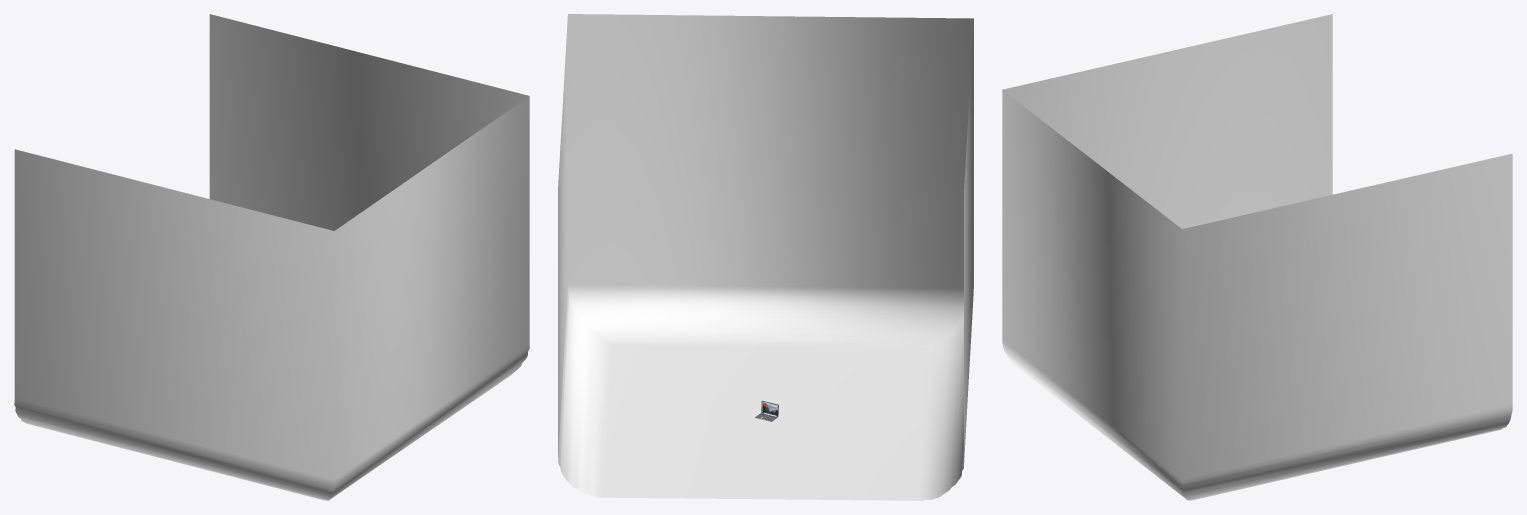
File: laptop.glb
3 renders of one model, left to right at view 1: azimuth 30°, elevation 25°; view 2: azimuth 150°, elevation 25°; view 3: azimuth 270°, elevation 25°, orthographic. The views are drawn at different scales.
Visible parts, largest first — view 1: macBook_TopPart; view 2: macBook_TopPart; view 3: macBook_TopPart.
Boxes of the visible parts, bbox=[...] form: macBook_TopPart: bbox=[14, 14, 529, 500]; macBook_TopPart: bbox=[558, 14, 973, 500]; macBook_TopPart: bbox=[1002, 14, 1512, 500].
Bounding box in the file's own units: 96.37 × 60.21 × 96.32.
7 materials, 7 textured.
